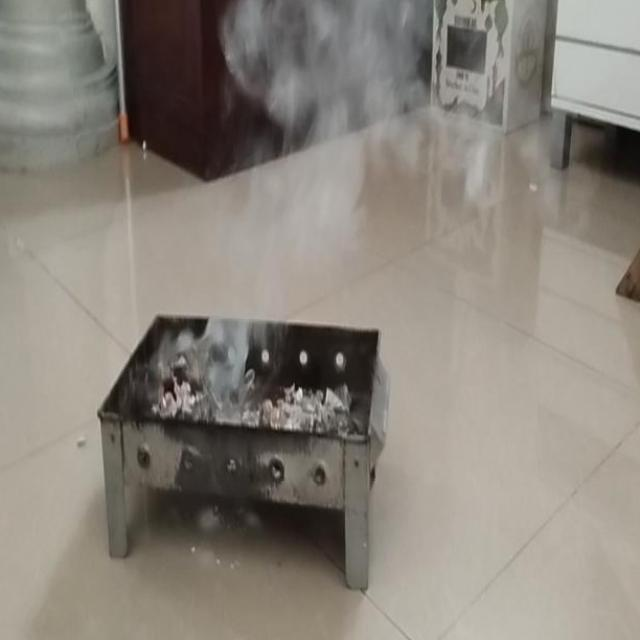fire: (232, 0, 429, 230), (194, 253, 289, 392)
